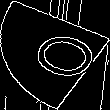O_SE: (11, 23, 99, 87)
